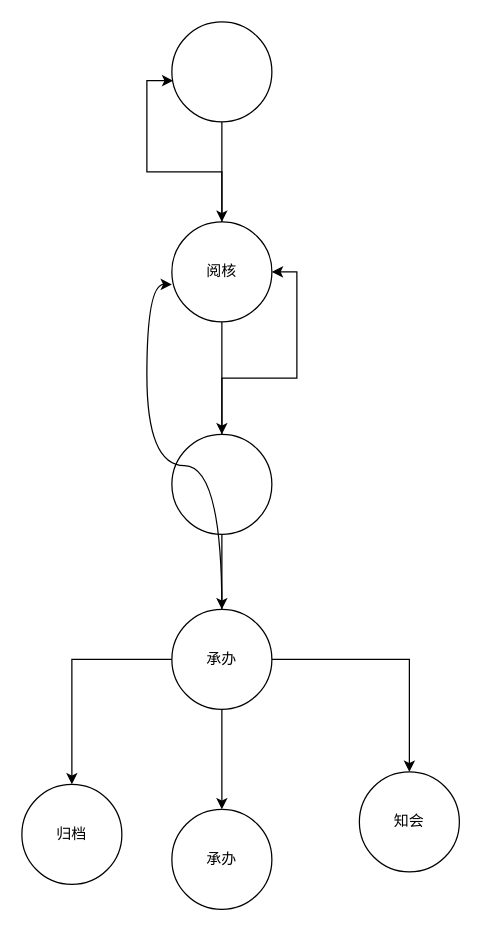
Image size: 481x931. Some labels were removed from this diagram. Here are the shapes that lost their labels. From the top down, the centre of each, then its label:
At (221,71): "拟稿".
At (221,483): "批阅".
